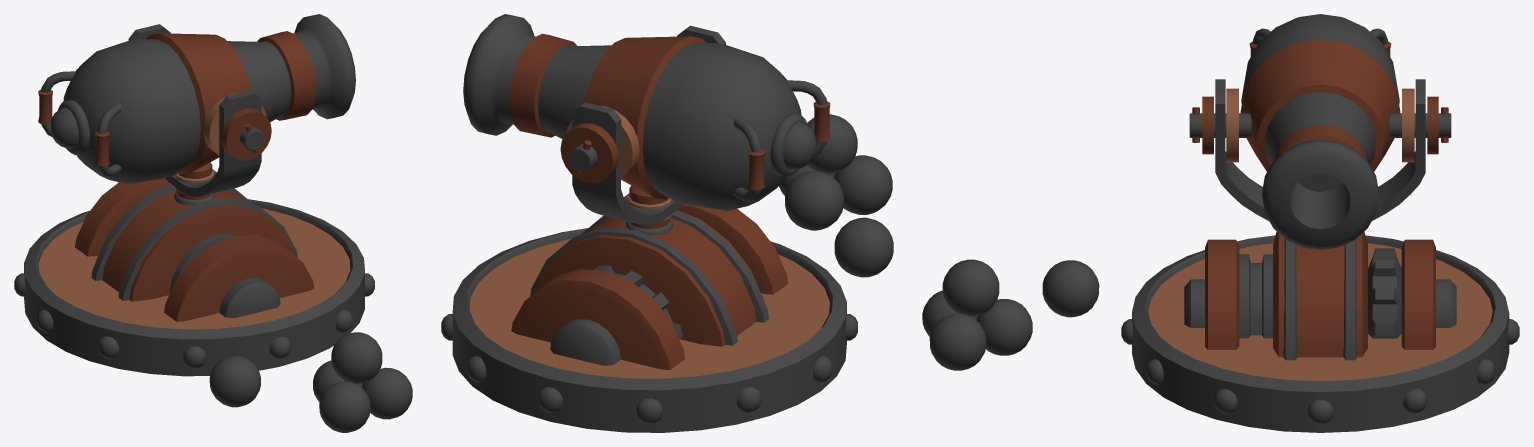
The model's file is cannon.fbx.
3 renders of one model, left to right at view 1: azimuth 30°, elevation 25°; view 2: azimuth 150°, elevation 25°; view 3: azimuth 270°, elevation 25°, orthographic. The views are drawn at different scales.
Parts seen in each view (by area): view 1: cannon, cannon_main, cannon_balls, cannon_frame; view 2: cannon, cannon_main, cannon_balls, cannon_frame; view 3: cannon, cannon_main, cannon_balls, cannon_frame.
Part boxes in pixels (x1=…): cannon: x1=14, y1=162, x2=374, y2=376; cannon_main: x1=38, y1=14, x2=355, y2=184; cannon_balls: x1=209, y1=332, x2=412, y2=432; cannon_frame: x1=128, y1=24, x2=271, y2=196; cannon: x1=441, y1=185, x2=857, y2=432; cannon_main: x1=463, y1=14, x2=830, y2=210; cannon_balls: x1=779, y1=114, x2=893, y2=277; cannon_frame: x1=560, y1=25, x2=725, y2=225; cannon: x1=1121, y1=231, x2=1519, y2=432; cannon_main: x1=1240, y1=14, x2=1400, y2=249; cannon_balls: x1=922, y1=259, x2=1099, y2=370; cannon_frame: x1=1189, y1=79, x2=1451, y2=220.
Bounding box in the file's own units: 389 × 259 × 234.
